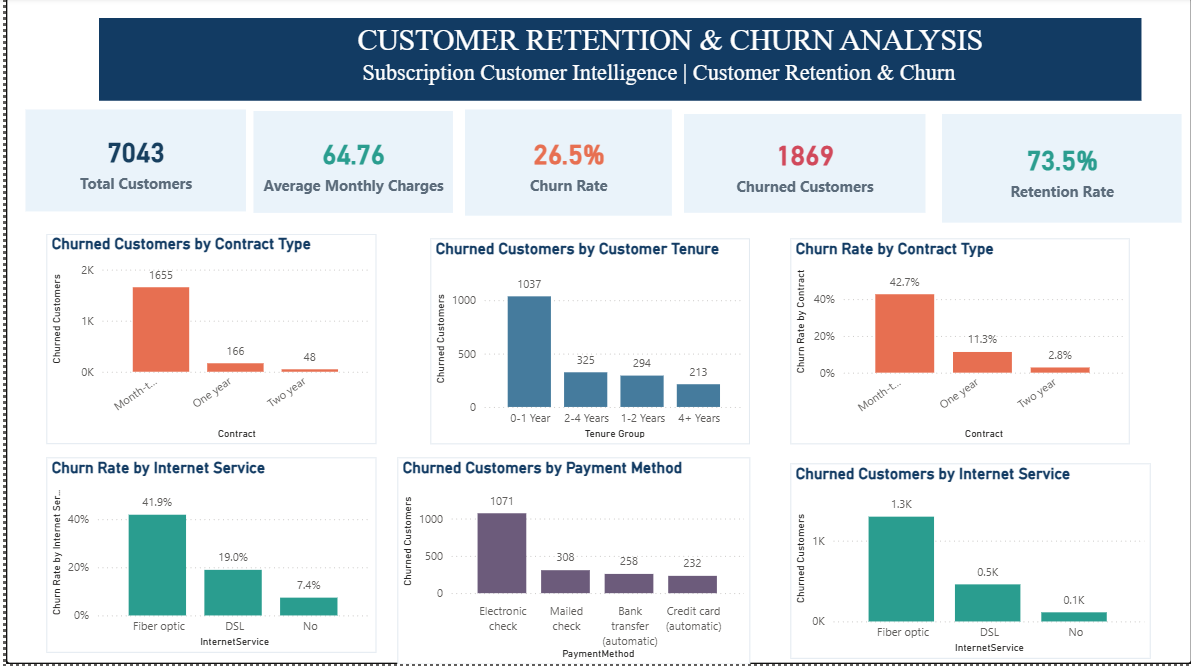

The dashboard page shown, as its layout file describes it:
{"tool":"powerbi","page":{"name":"Page 1","canvas":[1280,720],"ordinal":0},"visuals":[{"type":"card","fields":{"Values":["WA_Fn-UseC_-Telco-Customer-Churn.Total Customers"]},"box":[0,111.5,247.6,109.6],"z":0},{"type":"card","fields":{"Values":["WA_Fn-UseC_-Telco-Customer-Churn.Churn Rate"]},"box":[464.9,115.3,247.6,115.3],"z":1000},{"type":"card","fields":{"Values":["WA_Fn-UseC_-Telco-Customer-Churn.Churned Customers"]},"box":[684.1,126.6,279.7,94.5],"z":2000},{"type":"card","fields":{"Values":["WA_Fn-UseC_-Telco-Customer-Churn.Average Monthly Charges"]},"box":[234.3,115.3,247.6,109.6],"z":3000},{"type":"clusteredColumnChart","title":"Churned Customers by Contract Type","fields":{"Category":["WA_Fn-UseC_-Telco-Customer-Churn.Contract"],"Y":["WA_Fn-UseC_-Telco-Customer-Churn.Churned Customers"]},"box":[0,253.2,281.6,211.7],"z":4000},{"type":"clusteredColumnChart","title":"Churned Customers by Customer Tenure","fields":{"Category":["WA_Fn-UseC_-Telco-Customer-Churn.Tenure Group"],"Y":["WA_Fn-UseC_-Telco-Customer-Churn.Churned Customers"]},"box":[315.6,243.8,274,185.2],"z":5000},{"type":"clusteredColumnChart","title":"Churned Customers by Internet Service","fields":{"Category":["WA_Fn-UseC_-Telco-Customer-Churn.InternetService"],"Y":["WA_Fn-UseC_-Telco-Customer-Churn.Churned Customers"]},"box":[266.5,491.3,389.3,185.2],"z":6000},{"type":"clusteredColumnChart","title":"Churn Rate by Contract Type","fields":{"Category":["WA_Fn-UseC_-Telco-Customer-Churn.Contract"],"Y":["WA_Fn-UseC_-Telco-Customer-Churn.Churn Rate by Contract"]},"box":[595.3,260.8,300.5,204.1],"z":7000},{"type":"card","fields":{"Values":["WA_Fn-UseC_-Telco-Customer-Churn.Retention Rate"]},"box":[1011,126.6,258.9,117.2],"z":8000},{"type":"clusteredColumnChart","title":"Churned Customers by Payment Method","fields":{"Category":["WA_Fn-UseC_-Telco-Customer-Churn.PaymentMethod"],"Y":["WA_Fn-UseC_-Telco-Customer-Churn.Churned Customers"]},"box":[684.1,491.3,355.3,211.7],"z":9000},{"type":"clusteredColumnChart","title":"Churn Rate by Internet Service","fields":{"Category":["WA_Fn-UseC_-Telco-Customer-Churn.InternetService"],"Y":["WA_Fn-UseC_-Telco-Customer-Churn.Churn Rate by Internet Service"]},"box":[924.1,243.8,268.3,211.7],"z":10000},{"type":"textbox","box":[100.2,22.7,978.9,88.8],"z":10001}]}

Visuals, with their boxes in screenshot pixels (x1, y1, x2, y2), scaled from the page's 1280x720 canvas onto the 1191x666 screenshot:
card - WA_Fn-UseC_-Telco-Customer-Churn.Total Customers: {"left": 0, "top": 103, "right": 230, "bottom": 205}
card - WA_Fn-UseC_-Telco-Customer-Churn.Churn Rate: {"left": 433, "top": 107, "right": 663, "bottom": 213}
card - WA_Fn-UseC_-Telco-Customer-Churn.Churned Customers: {"left": 637, "top": 117, "right": 897, "bottom": 205}
card - WA_Fn-UseC_-Telco-Customer-Churn.Average Monthly Charges: {"left": 218, "top": 107, "right": 448, "bottom": 208}
"Churned Customers by Contract Type" clusteredColumnChart: {"left": 0, "top": 234, "right": 262, "bottom": 430}
"Churned Customers by Customer Tenure" clusteredColumnChart: {"left": 294, "top": 226, "right": 549, "bottom": 397}
"Churned Customers by Internet Service" clusteredColumnChart: {"left": 248, "top": 454, "right": 610, "bottom": 626}
"Churn Rate by Contract Type" clusteredColumnChart: {"left": 554, "top": 241, "right": 834, "bottom": 430}
card - WA_Fn-UseC_-Telco-Customer-Churn.Retention Rate: {"left": 941, "top": 117, "right": 1182, "bottom": 226}
"Churned Customers by Payment Method" clusteredColumnChart: {"left": 637, "top": 454, "right": 967, "bottom": 650}
"Churn Rate by Internet Service" clusteredColumnChart: {"left": 860, "top": 226, "right": 1109, "bottom": 421}
textbox: {"left": 93, "top": 21, "right": 1004, "bottom": 103}
